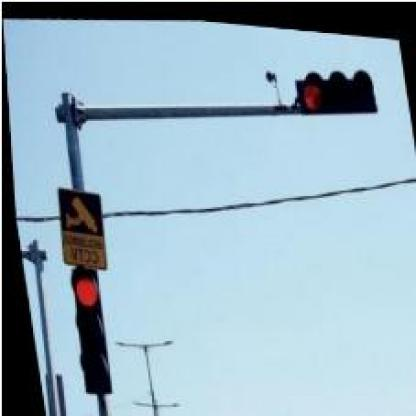red: (60, 260, 109, 396), (290, 57, 376, 114)
